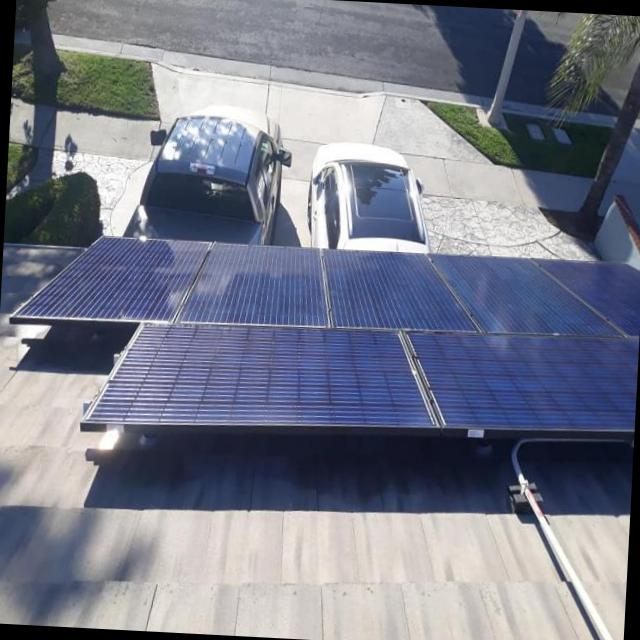no faulty: (88, 326, 436, 425), (411, 329, 639, 426), (18, 236, 208, 320), (433, 255, 618, 337), (325, 250, 473, 330), (183, 243, 325, 326), (534, 259, 640, 338)
